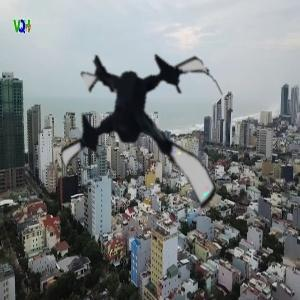drone: (50, 38, 242, 230)
